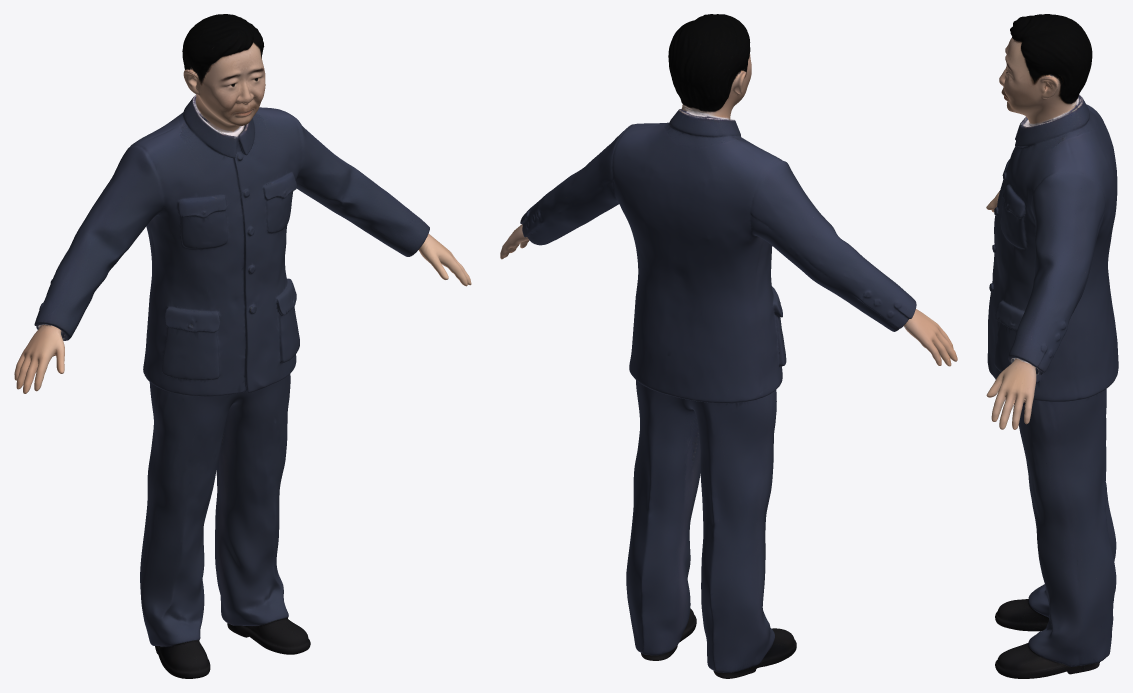
The model's file is Meshy_AI_using_this_exact_phot_0504124612_texture.obj.
3 renders of one model, left to right at view 1: azimuth 30°, elevation 25°; view 2: azimuth 150°, elevation 25°; view 3: azimuth 270°, elevation 25°, orthographic.
Parts seen in each view (by area): view 1: Meshy_AI_using_this_exact_phot_0504124612_texture; view 2: Meshy_AI_using_this_exact_phot_0504124612_texture; view 3: Meshy_AI_using_this_exact_phot_0504124612_texture.
Part boxes in pixels (<box>): Meshy_AI_using_this_exact_phot_0504124612_texture: <box>14,14,471,678</box>; Meshy_AI_using_this_exact_phot_0504124612_texture: <box>500,14,957,678</box>; Meshy_AI_using_this_exact_phot_0504124612_texture: <box>986,14,1118,678</box>.
Size of the model in its own units: 1.41 by 1.9 by 0.3615.
Materials: 1 (1 with a texture image).
